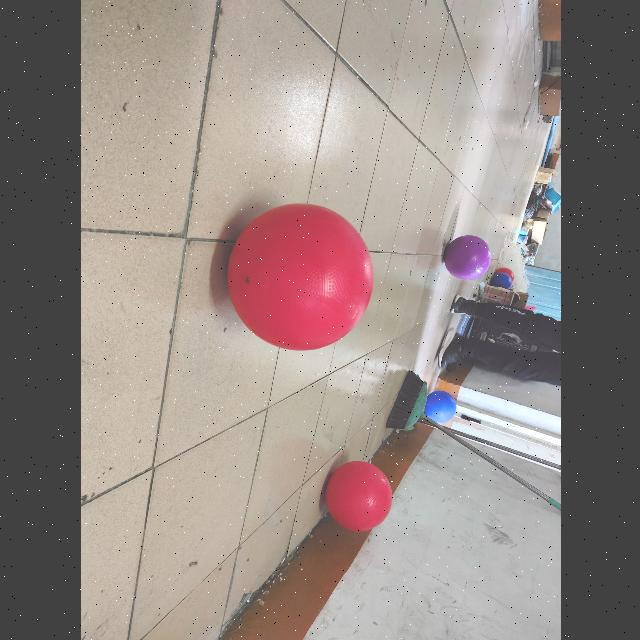B: (422, 390, 454, 424), (490, 272, 510, 292)
P: (442, 235, 490, 281)
R: (226, 202, 374, 352), (323, 460, 393, 532), (494, 268, 514, 286)
